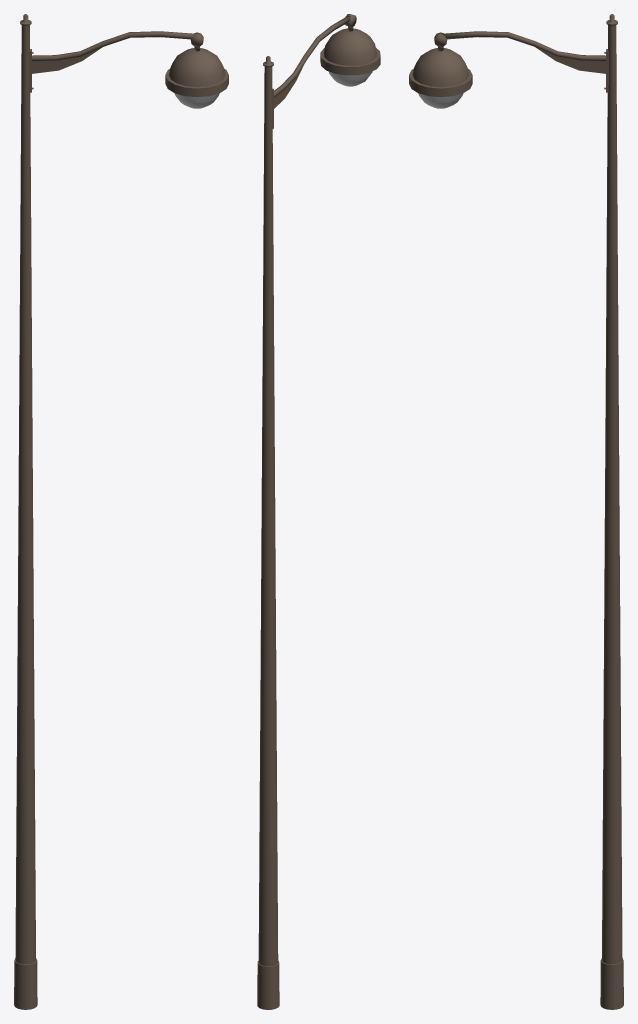
The model's file is sweethome3d-scopia-street-light.glb.
The picture shows the model from 3 angles, left to right: view 1: azimuth 90°, elevation 25°; view 2: azimuth 150°, elevation 25°; view 3: azimuth 270°, elevation 25°; orthographic projection. The views are drawn at different scales.
Parts seen in each view (by area): view 1: base_Circle; view 2: base_Circle, glass_Circle.001; view 3: base_Circle.
Part boxes in pixels (left/top/right/bottom): base_Circle: left=14, top=14, right=228, bottom=1009; base_Circle: left=257, top=14, right=380, bottom=1009; glass_Circle.001: left=328, top=71, right=372, bottom=86; base_Circle: left=409, top=14, right=623, bottom=1009.
Bounding box in the file's own units: 42.98 × 738 × 145.
